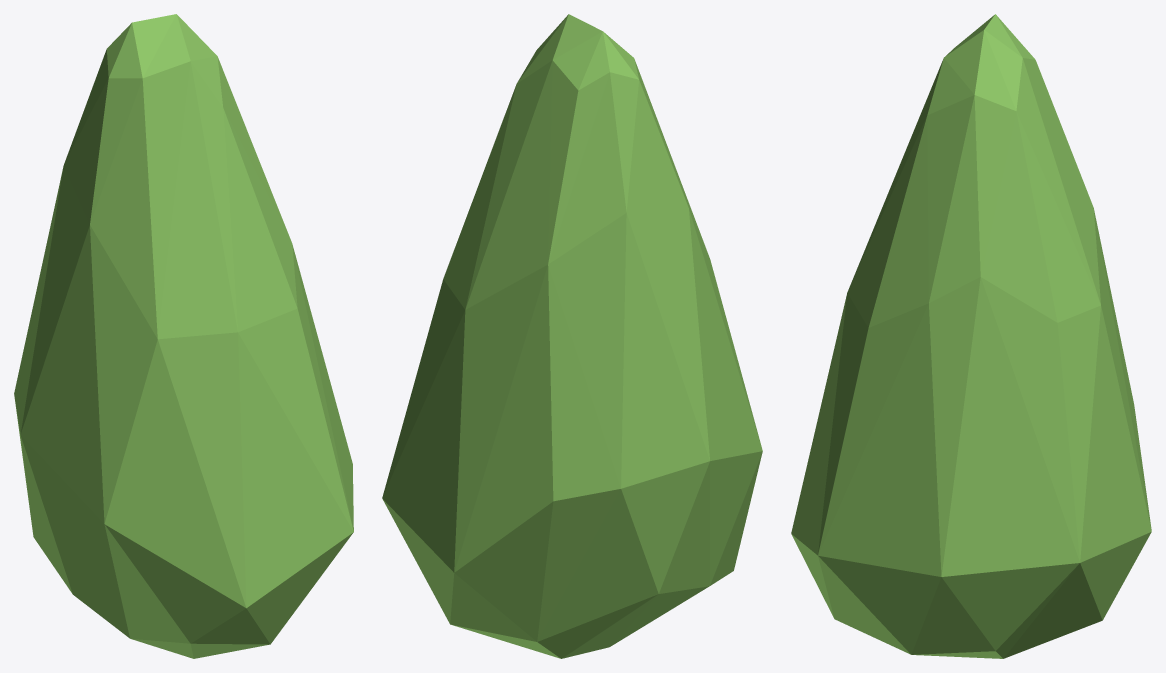
Rendered from Thuja_BushTree_s_02_LOD.fbx.
The picture shows the model from 3 angles, left to right: view 1: azimuth 30°, elevation 25°; view 2: azimuth 150°, elevation 25°; view 3: azimuth 270°, elevation 25°; orthographic projection. The views are drawn at different scales.
Parts seen in each view (by area): view 1: Thuja_BushTree_s_02_LOD0; view 2: Thuja_BushTree_s_02_LOD0; view 3: Thuja_BushTree_s_02_LOD0.
Part boxes in pixels (x1=…): Thuja_BushTree_s_02_LOD0: x1=14, y1=14, x2=353, y2=658; Thuja_BushTree_s_02_LOD0: x1=382, y1=14, x2=762, y2=658; Thuja_BushTree_s_02_LOD0: x1=791, y1=14, x2=1151, y2=658.
Size of what is drawn, in the model's own units: 139 by 270 by 144.
